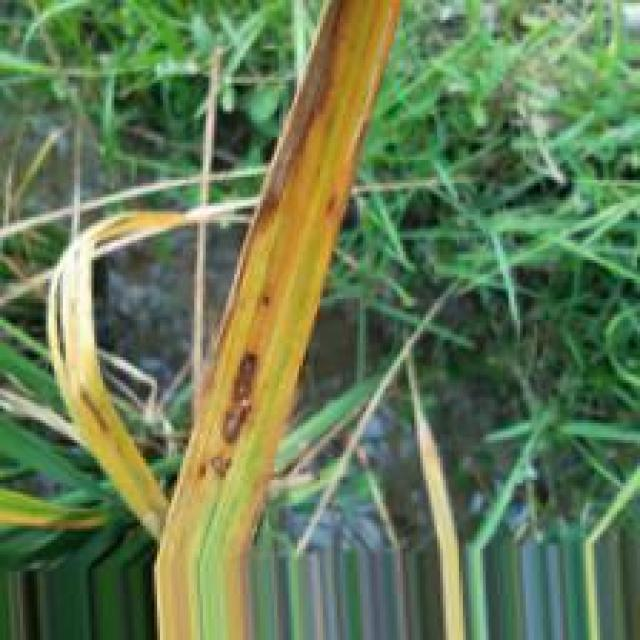Bacterial_Leaf_Blight: (155, 1, 350, 566), (225, 1, 401, 555), (244, 108, 334, 350), (218, 349, 261, 448), (320, 194, 336, 220)
